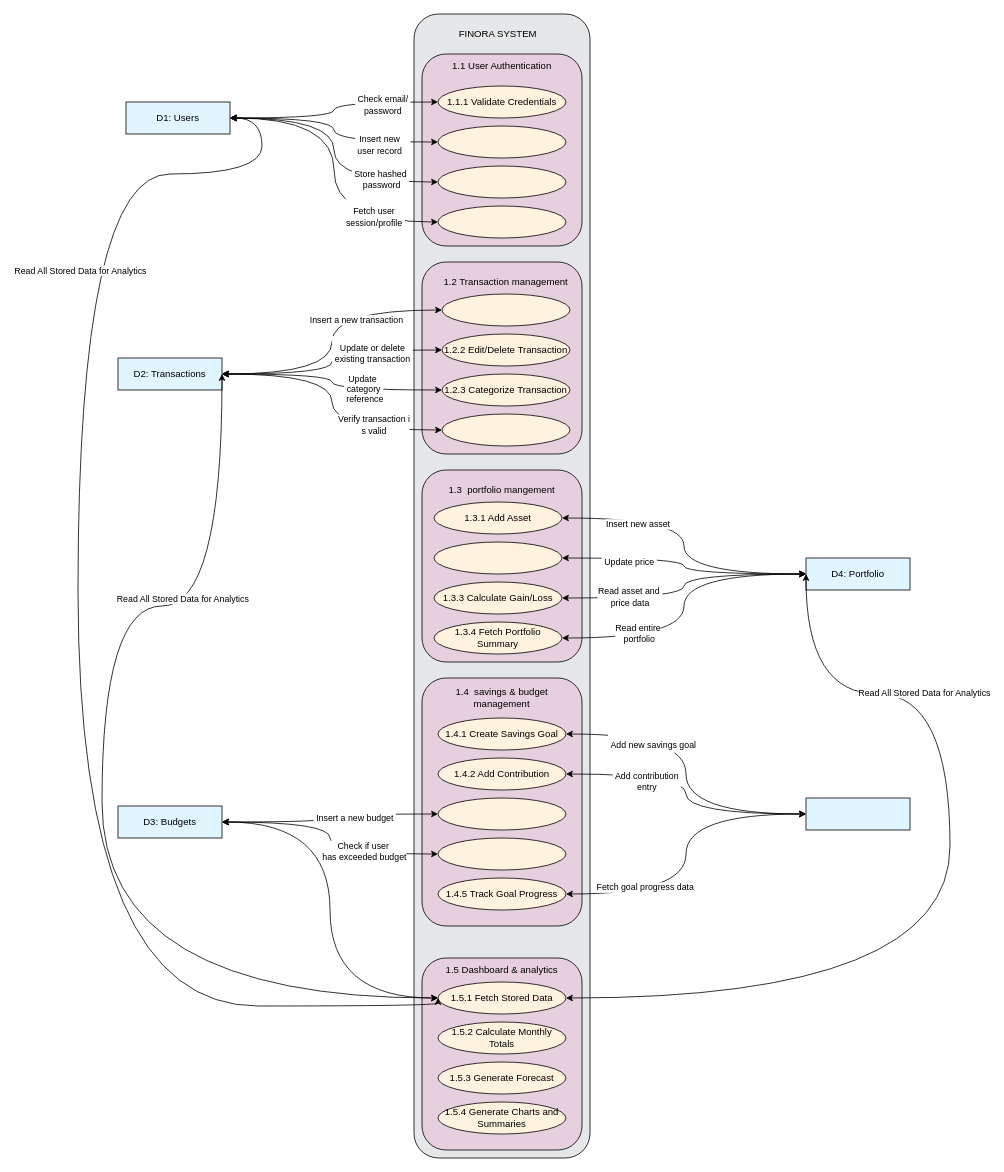
The diagram is 1004 pixels wide and 1172 high, and some of its shapes have lost their labels. The centre of each missing label's shape, as x and y in pixels:
"1.1.2 Register New User" belongs at [501,141].
"1.1.3 Hash Password" belongs at [501,181].
"1.1.4 Maintain User Session" belongs at [501,221].
"1.2.1 Add Transaction" belongs at [505,309].
"1.2.4 Validate Amount & Date" belongs at [505,429].
"1.3.2 Update Current Price" belongs at [497,557].
"1.4.3 Set Monthly Budget" belongs at [501,813].
"1.4.4 Validate Budget Limit" belongs at [501,853].
"D5: Savings Goals & Contributions" belongs at [857,813].
